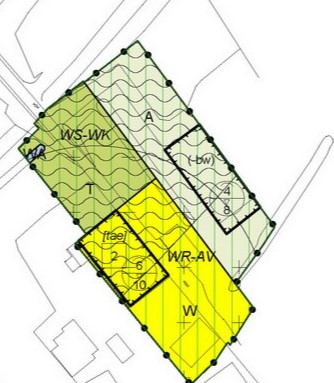Bouwhoogte: (133, 258, 145, 272), (222, 184, 235, 196)
Goothoogte: (131, 277, 149, 292), (221, 202, 232, 216)
Waardes: (120, 255, 159, 293), (207, 180, 246, 215)
